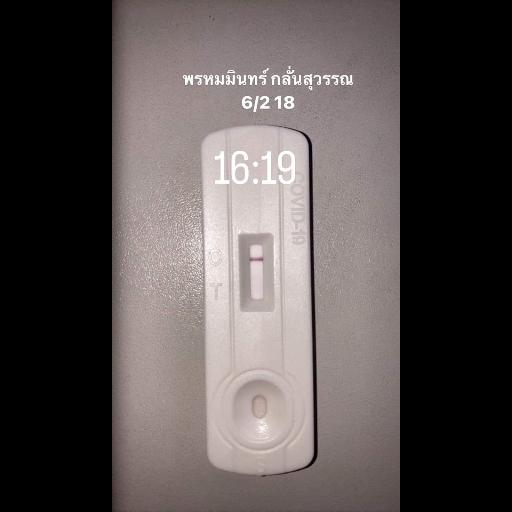Neg: (200, 122, 312, 474)
